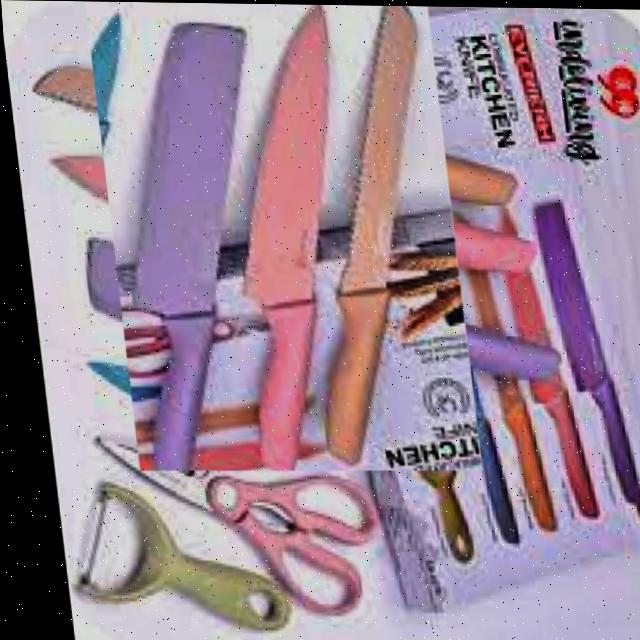knife: (114, 20, 268, 470), (296, 4, 440, 465), (222, 6, 350, 475)
